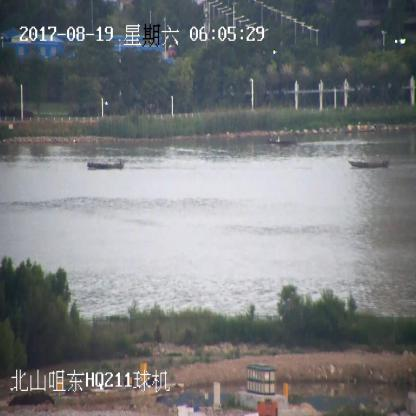Fishing Boat: (348, 156, 387, 168), (88, 158, 123, 171), (269, 136, 297, 144)
